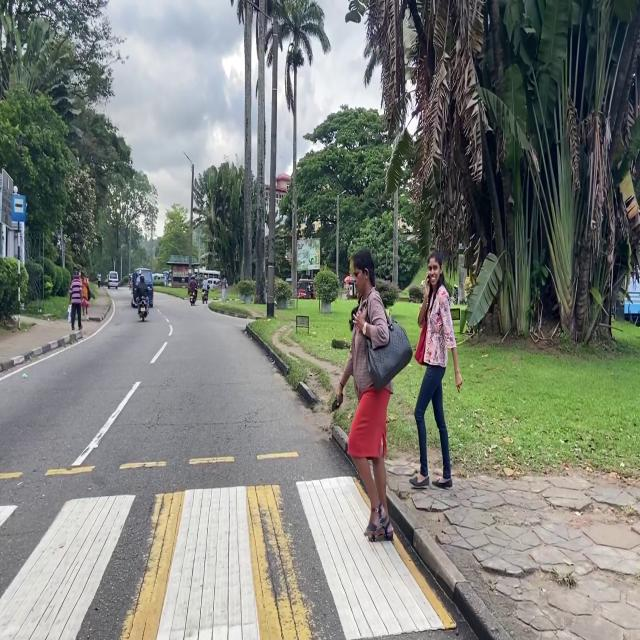bus: (197, 268, 220, 281)
motorcycle: (138, 296, 148, 322), (202, 288, 208, 304), (190, 291, 195, 305)
person: (332, 248, 412, 542), (410, 250, 462, 489), (70, 269, 82, 332), (136, 274, 149, 309), (81, 270, 90, 319), (189, 274, 197, 297), (221, 276, 227, 302), (202, 278, 210, 293), (97, 273, 101, 287)
three wheeler: (298, 279, 315, 299)
van: (132, 268, 153, 308), (108, 271, 118, 289)
